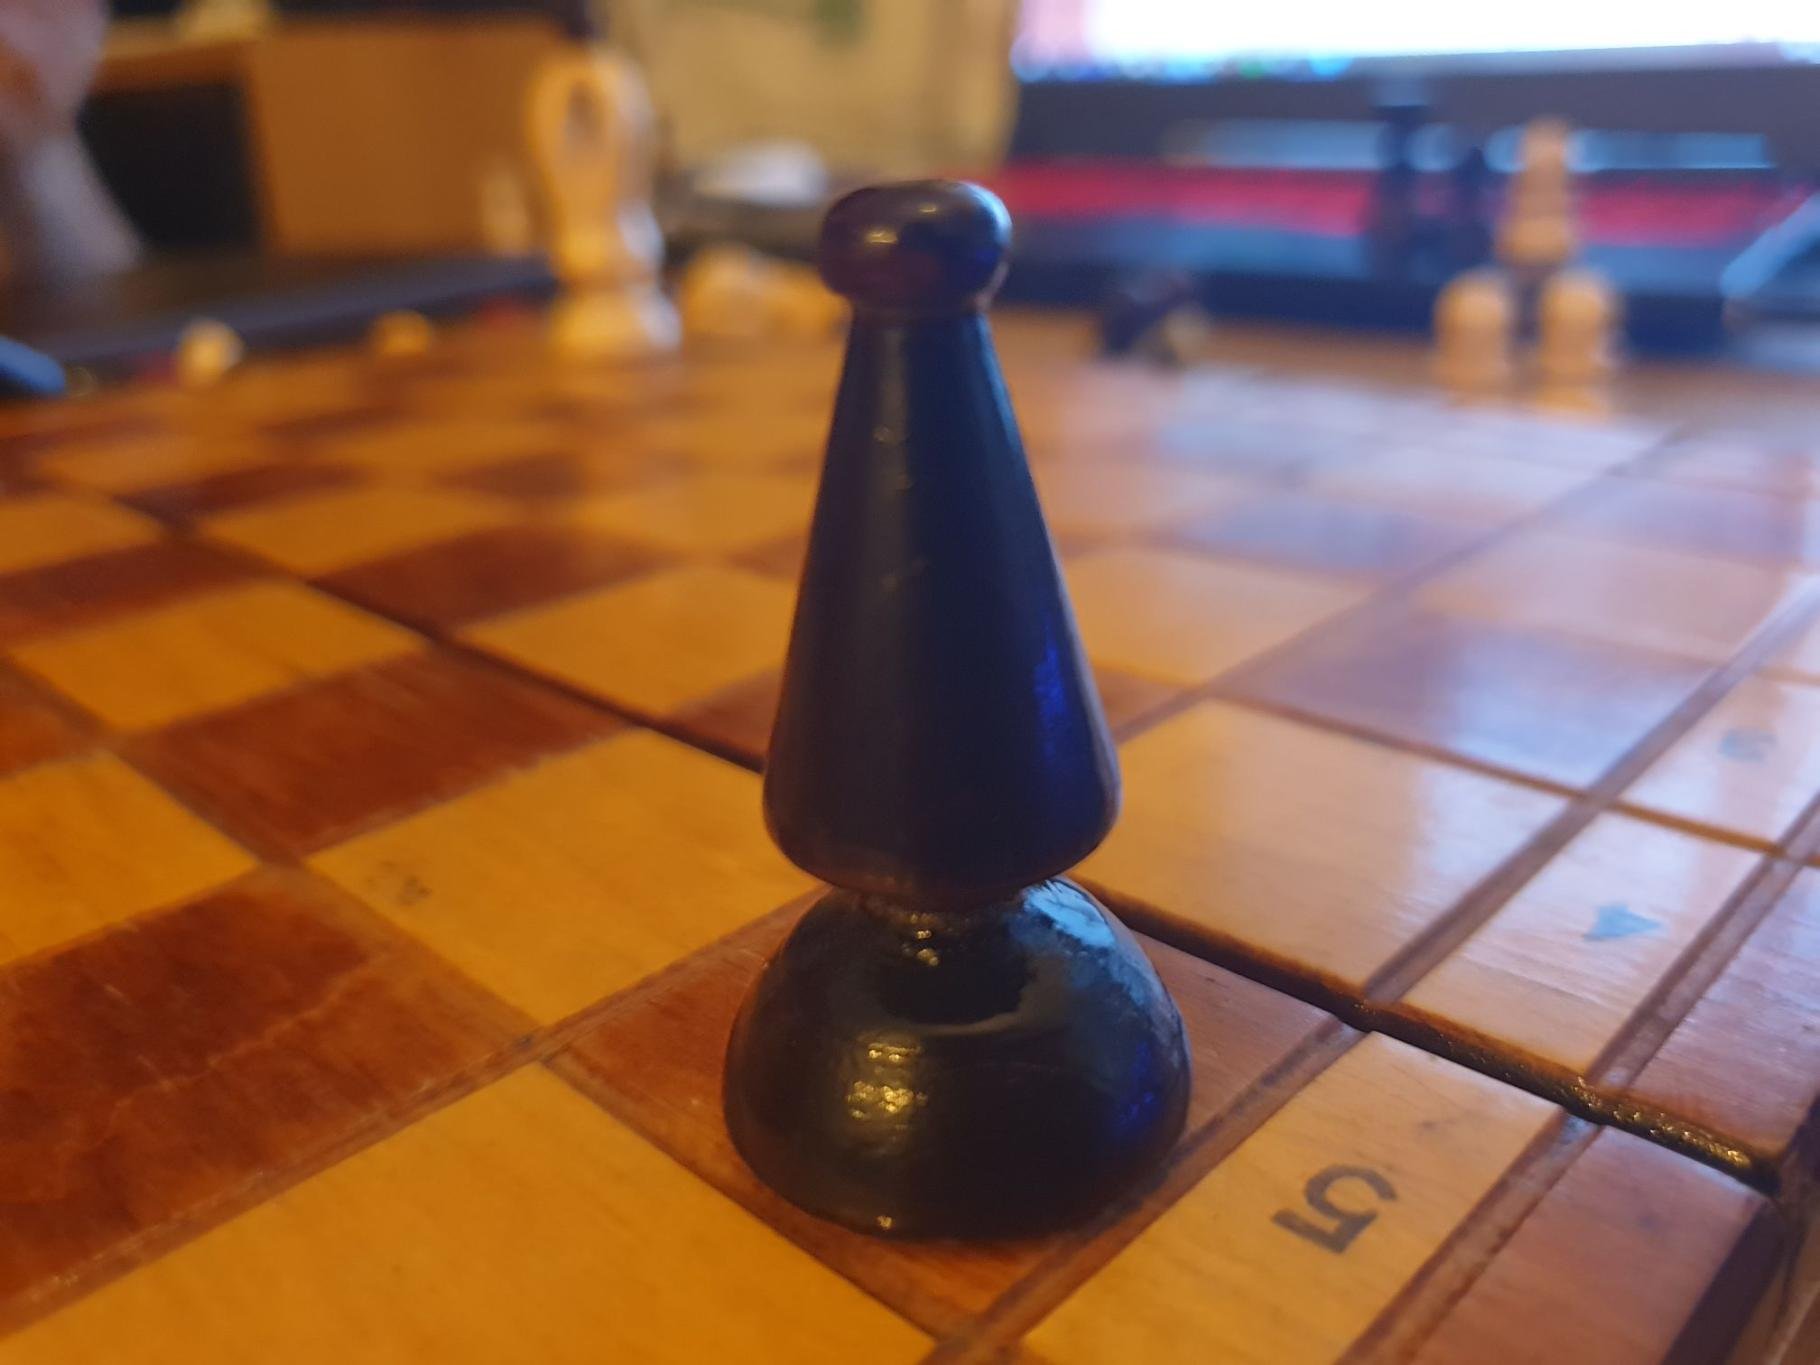bbishop: (722, 178, 1192, 1242)
